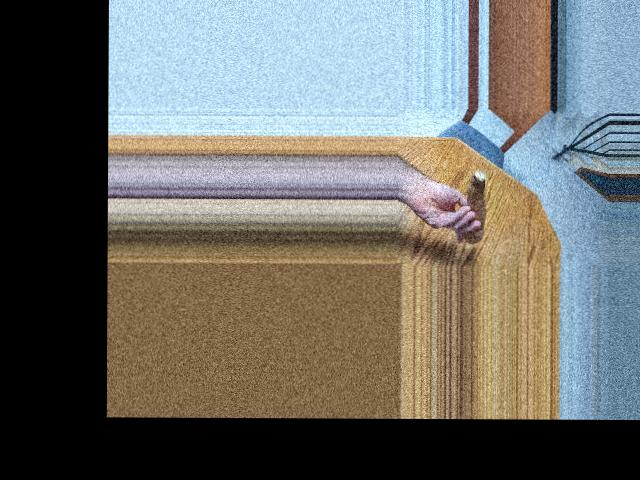sweet_potato: (468, 168, 484, 231)
